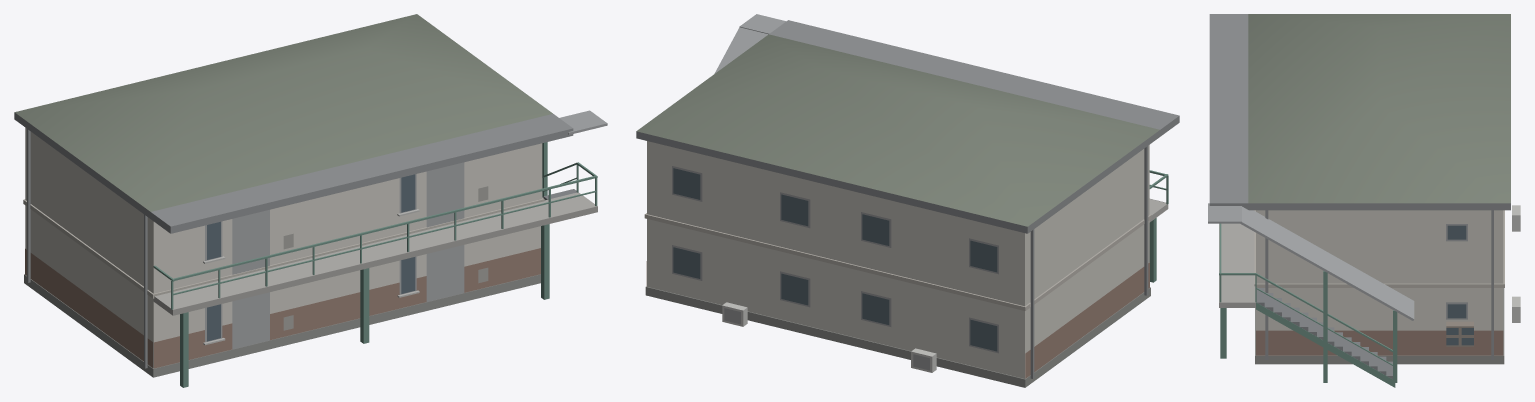
Rendered from apartment_B.glb.
The picture shows the model from 3 angles, left to right: view 1: azimuth 30°, elevation 25°; view 2: azimuth 150°, elevation 25°; view 3: azimuth 270°, elevation 25°; orthographic projection. The views are drawn at different scales.
Parts seen in each view (by area): view 1: Static; view 2: Static; view 3: Static.
Part boxes in pixels (x1,y1,x2,y2): Static: (14, 14, 607, 387); Static: (636, 14, 1179, 387); Static: (1208, 14, 1520, 387).
Bounding box in the file's own units: 15.7 × 7.59 × 10.12.
